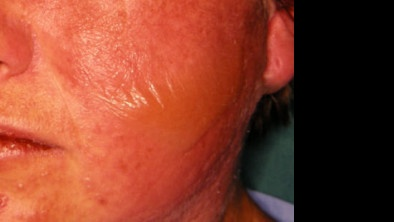SJS-TEN: (33, 0, 304, 222)
